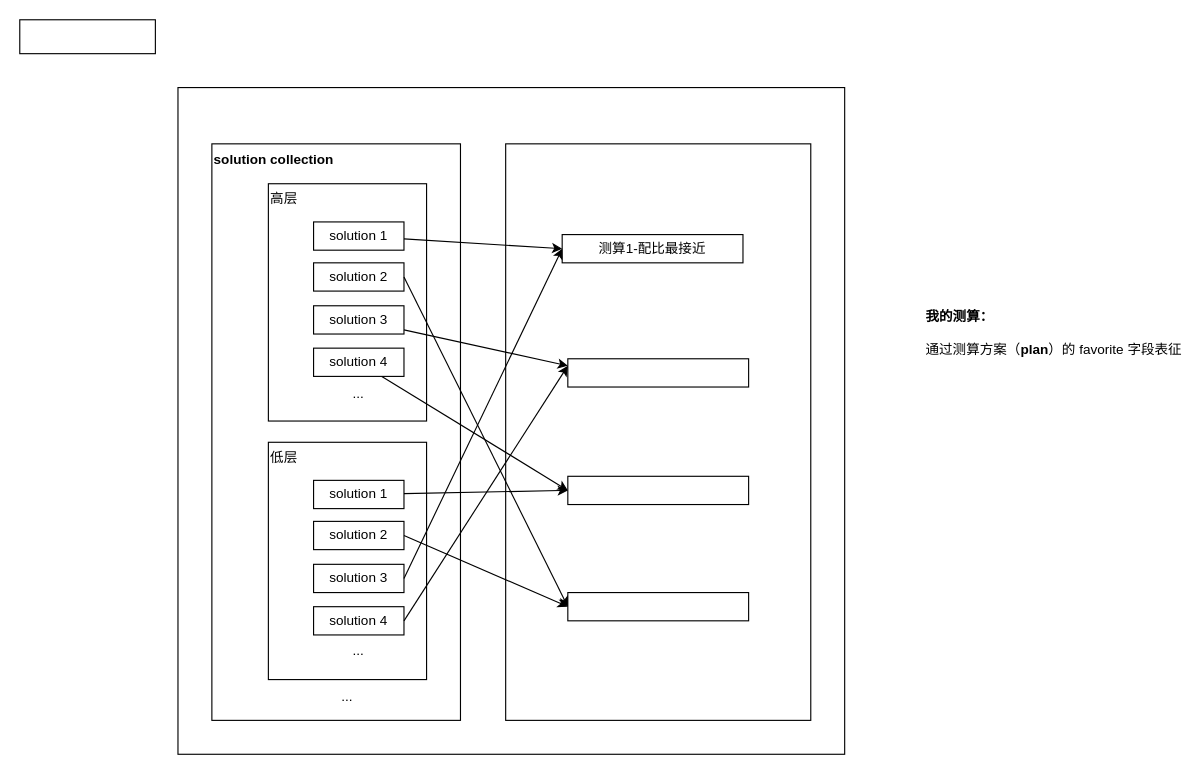
This 1203x774 diagram has some shape labels left out. Each missing label, with the box of its shape:
plan list 默认推荐四个，用户可以增删改，本质是对左侧结果集中 具体组合 的引用: (505, 143, 811, 720)
Version.20220725: (19, 19, 155, 54)
一次测算请求的 result: (177, 86, 845, 754)
测算2-楼型最少: (567, 358, 749, 387)
测算3-低密最大: (567, 475, 749, 505)
测算4-建筑密度最大: (567, 591, 749, 621)
